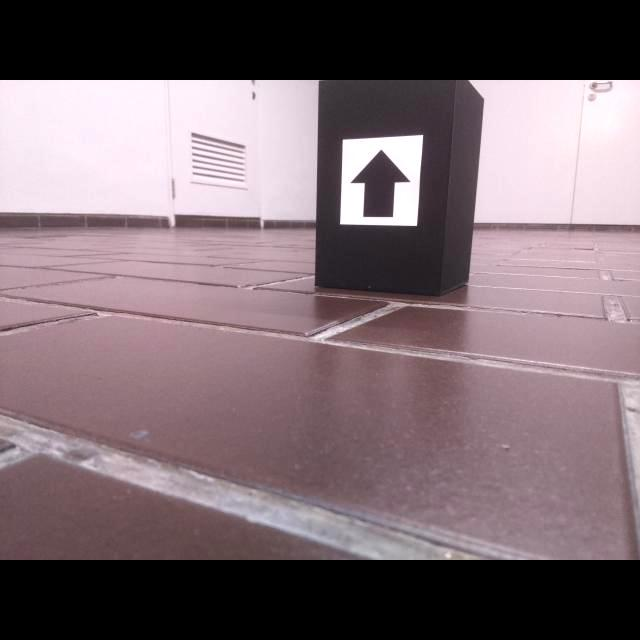UP: (349, 148, 411, 218)
